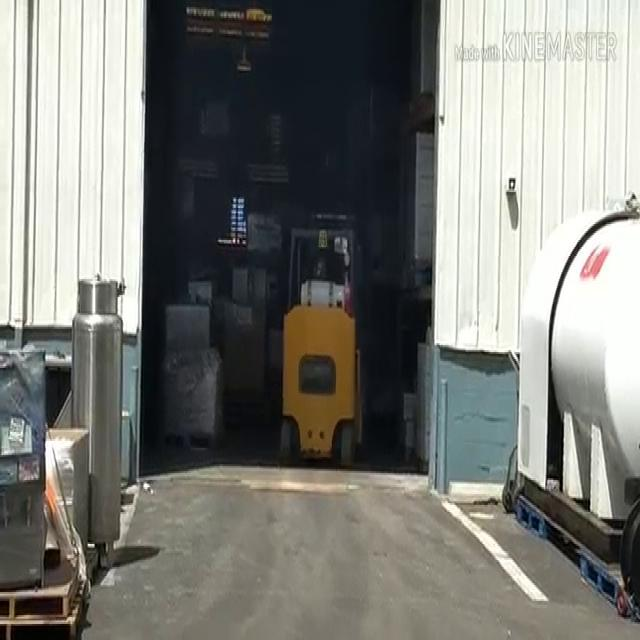Chariot elevateur: (282, 208, 362, 475)
